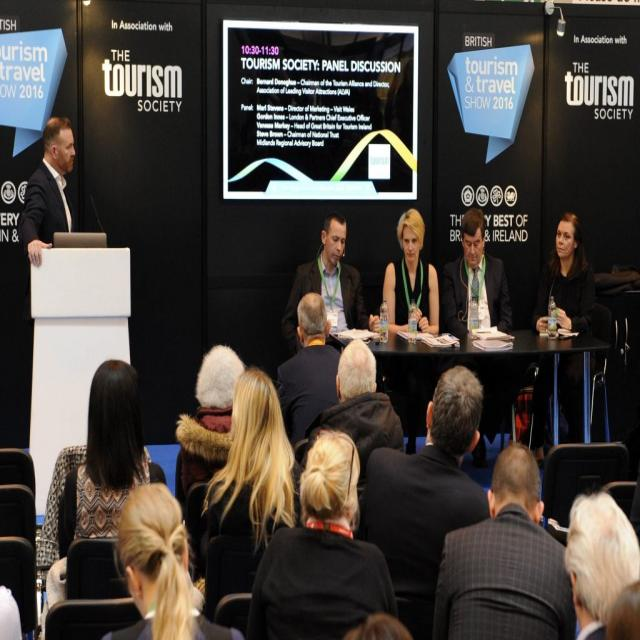body: (353, 363, 493, 639), (246, 429, 398, 640), (431, 441, 578, 640), (100, 481, 246, 640), (16, 114, 85, 450), (55, 357, 168, 562), (200, 364, 306, 560), (440, 206, 514, 471), (526, 207, 600, 465), (299, 337, 406, 485), (282, 207, 382, 353), (172, 342, 246, 523), (562, 485, 640, 639), (275, 291, 341, 444), (381, 206, 441, 335), (345, 611, 413, 639), (2, 589, 24, 639)
